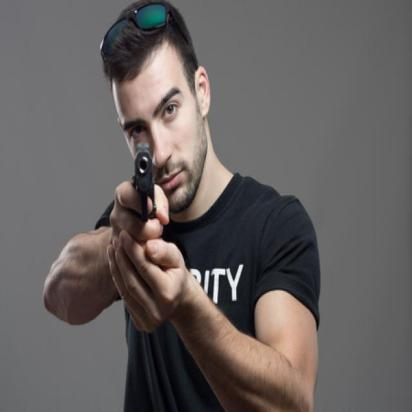Gun: (122, 146, 173, 310)
